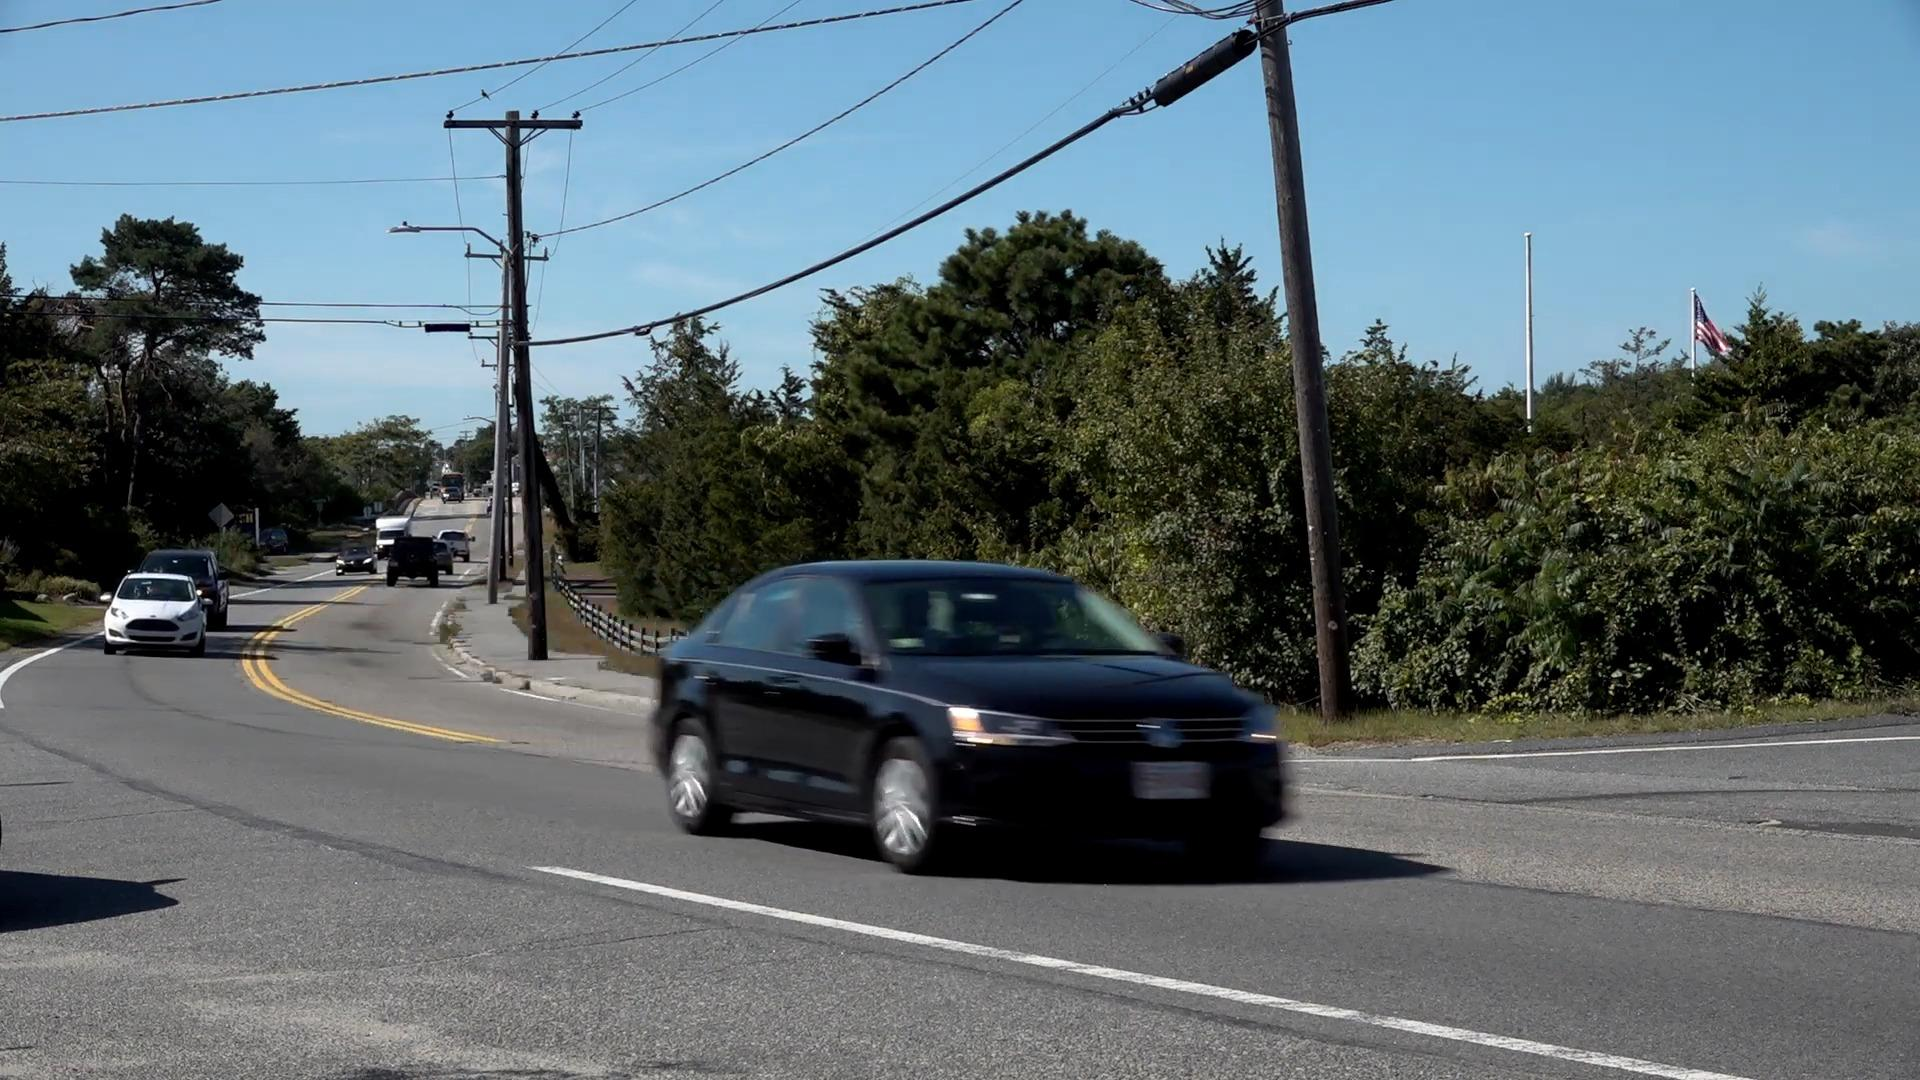sedans: (646, 556, 1292, 876), (99, 571, 207, 657)
